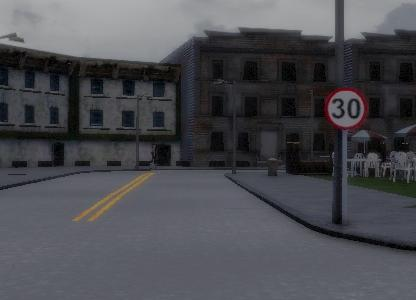Speed_30: (323, 82, 369, 130)
